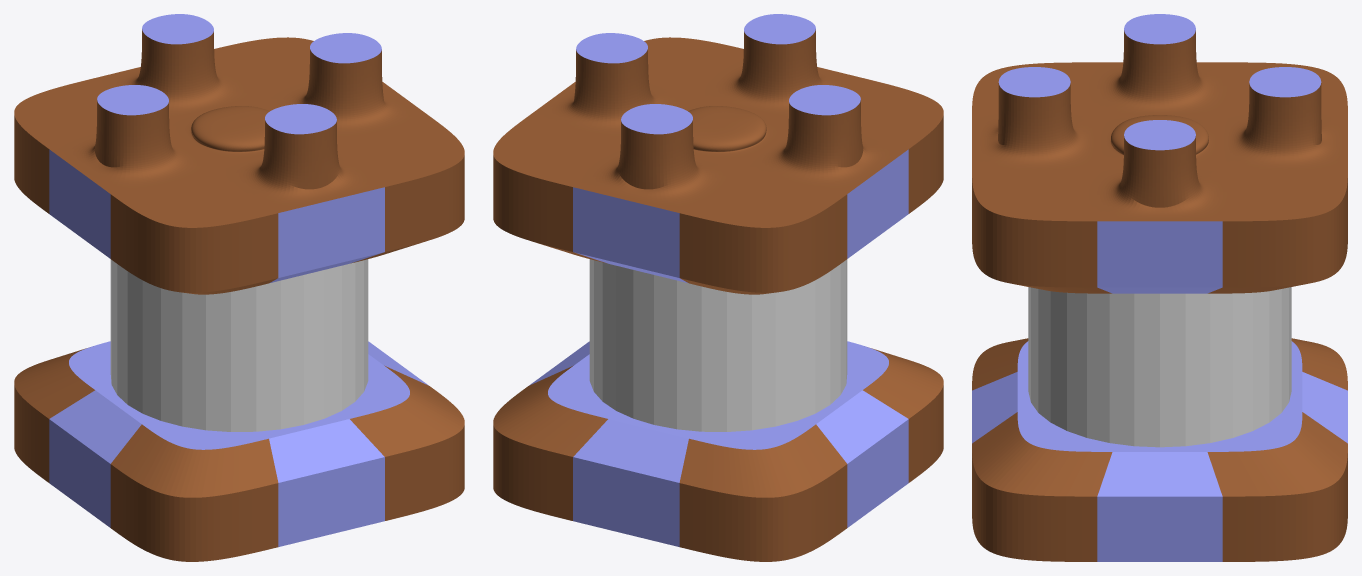
The model's file is Generador2.fbx.
3 renders of one model, left to right at view 1: azimuth 30°, elevation 25°; view 2: azimuth 150°, elevation 25°; view 3: azimuth 270°, elevation 25°, orthographic.
Visible parts, largest first — view 1: Bases, Vidrio; view 2: Bases, Vidrio; view 3: Bases, Vidrio.
Part boxes in pixels (left/top/right/bottom): Bases: left=14, top=14, right=464, bottom=561; Vidrio: left=110, top=259, right=368, bottom=431; Bases: left=493, top=14, right=943, bottom=561; Vidrio: left=589, top=259, right=847, bottom=431; Bases: left=972, top=14, right=1347, bottom=561; Vidrio: left=1028, top=287, right=1291, bottom=447.
Bounding box in the file's own units: 200 × 235 × 200.
